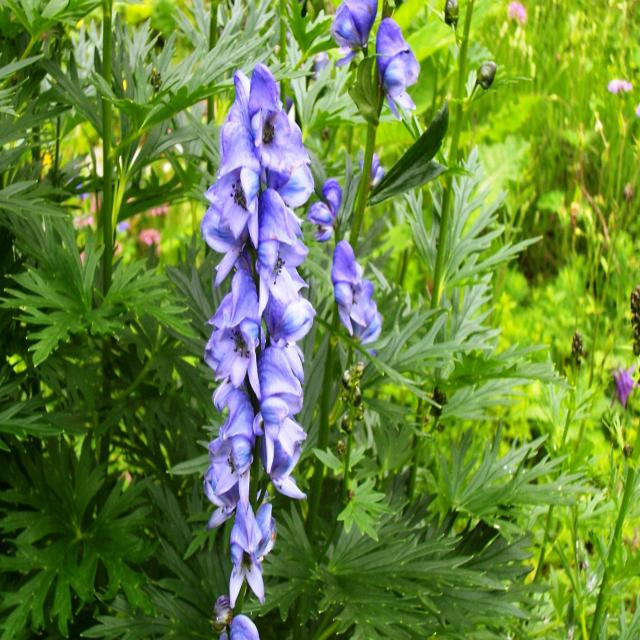Meetha: (297, 78, 637, 640), (182, 67, 402, 640), (202, 65, 438, 438), (316, 8, 539, 207)
